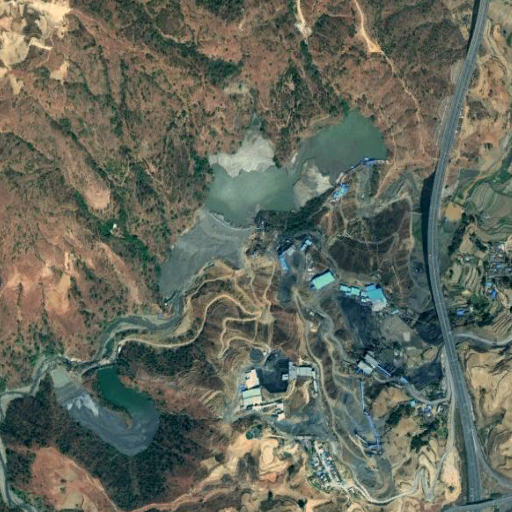tp: (163, 106, 392, 298), (49, 362, 159, 458)
